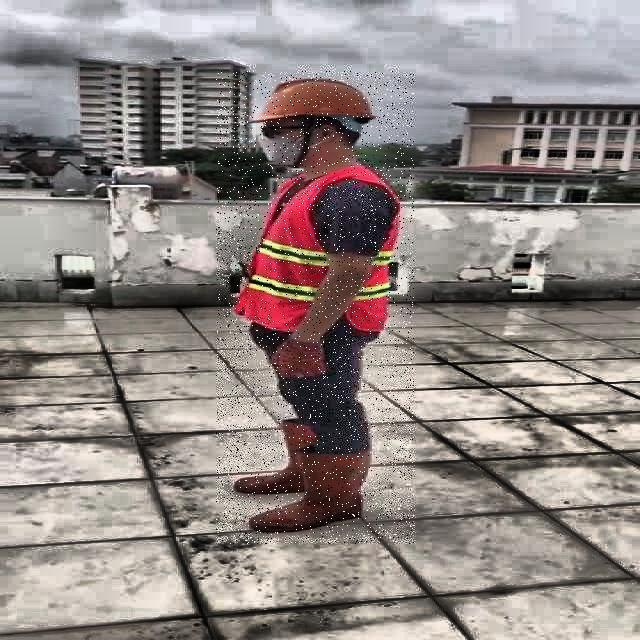safety_helmet: (246, 74, 377, 124)
safety_jacket: (238, 169, 398, 333)
